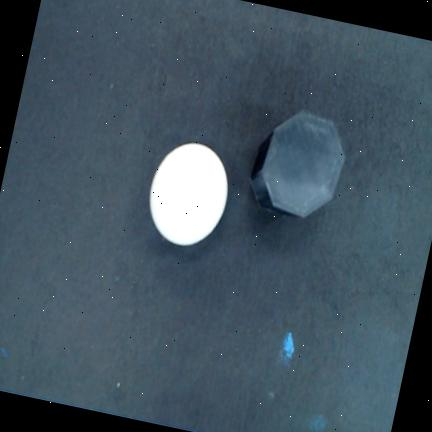Esfera: (150, 143, 228, 246)
Prisma_hexagonal: (251, 110, 345, 217)
